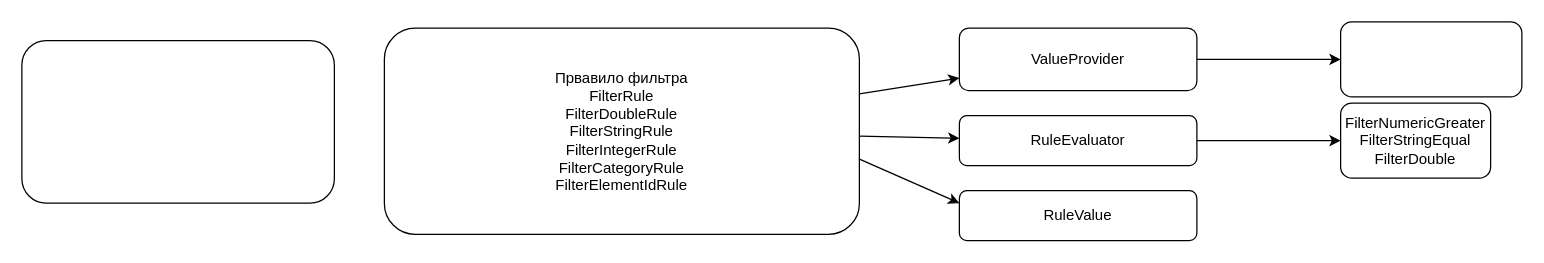
This 1544x263 diagram has some shape labels left out. The centre of each missing label's shape, as x and y in pixels:
ParameterValueProvider: the point at 1430,59
Фильтр по параметрам ElementParameterFilter(): the point at 177,121
